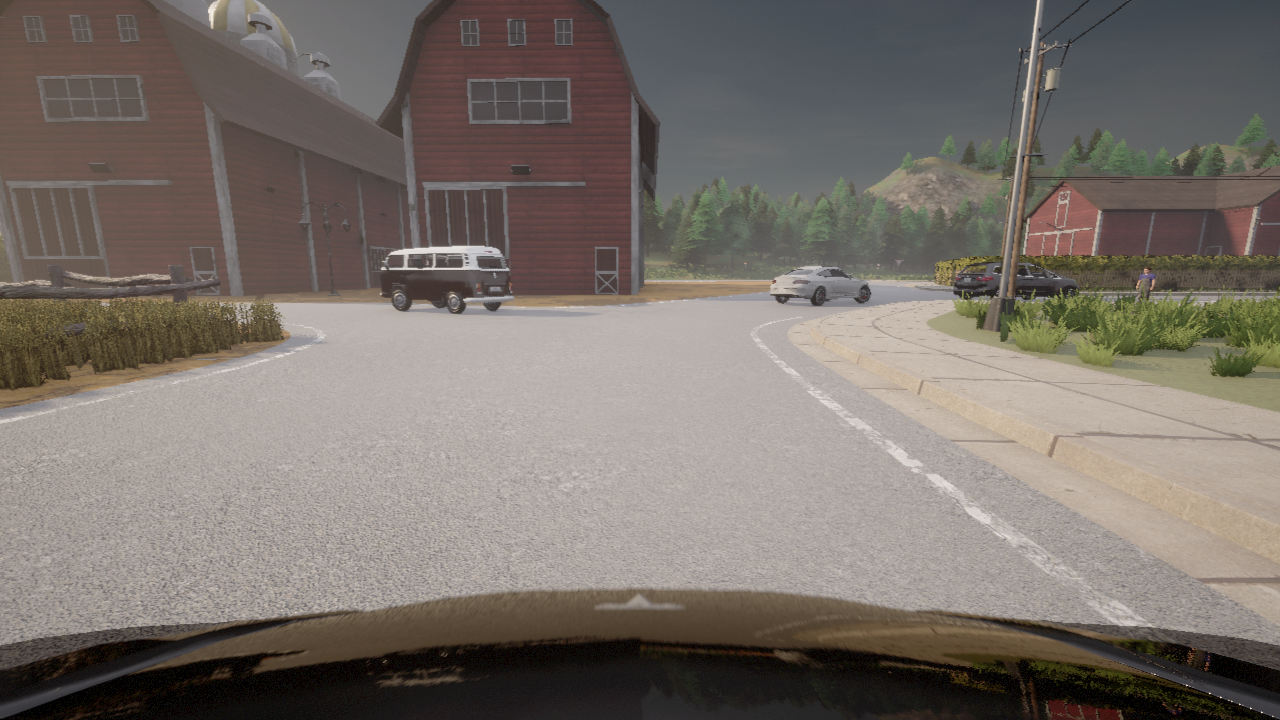cyclist: (0, 588, 1279, 719), (381, 246, 513, 313), (953, 262, 1079, 299), (770, 266, 870, 305)
pedestrian: (1136, 267, 1155, 303)
